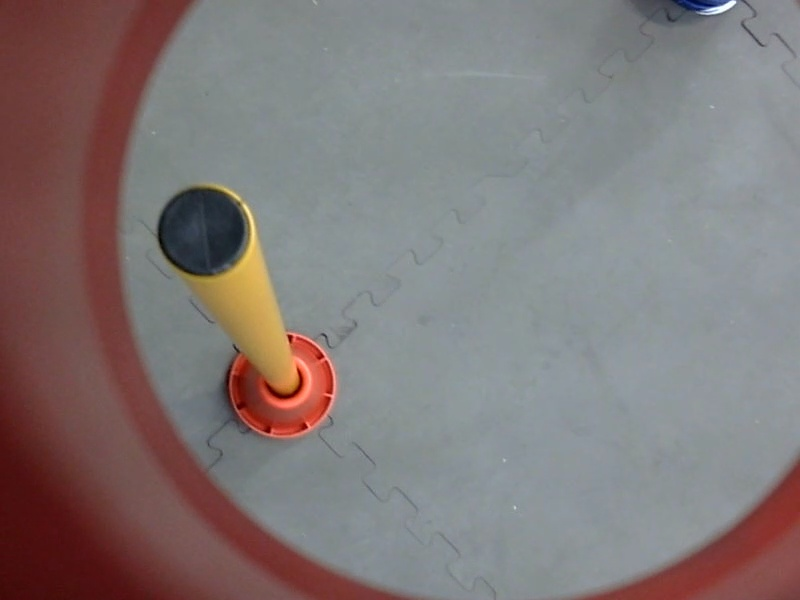tip: (144, 174, 266, 289)
